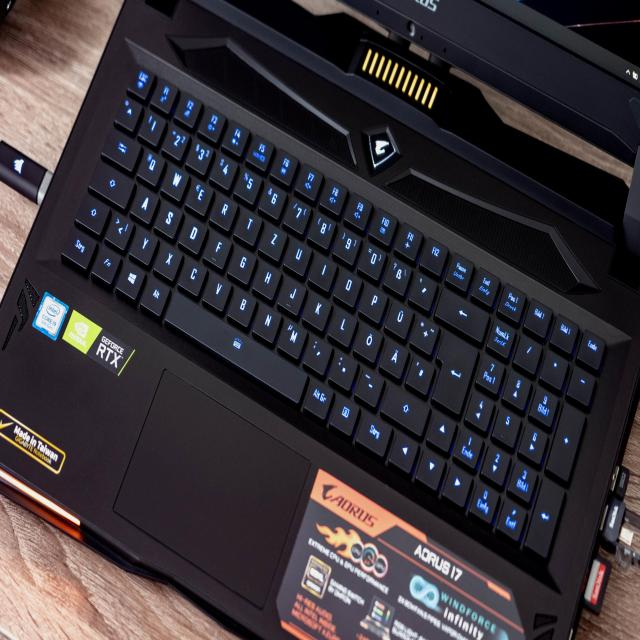0: (112, 81, 123, 95)
1: (36, 36, 46, 49)
2: (45, 40, 55, 53)
3: (53, 45, 63, 58)
4: (61, 50, 71, 63)
5: (70, 56, 80, 69)
6: (78, 61, 88, 74)
7: (86, 65, 97, 79)
8: (95, 71, 105, 85)
9: (104, 76, 114, 90)
a: (33, 61, 44, 76)
accent: (130, 91, 140, 106)
ae: (119, 116, 131, 130)
alt-left: (37, 93, 48, 108)
altgr-right: (94, 129, 105, 144)
b: (67, 98, 78, 112)
c: (50, 87, 61, 101)
caret: (28, 32, 38, 43)
comma: (93, 114, 104, 128)
d: (50, 73, 61, 87)
del: (139, 97, 158, 117)
e: (53, 60, 64, 73)
enter: (138, 111, 154, 142)
f: (59, 78, 69, 92)
g: (67, 83, 78, 97)
h: (76, 88, 86, 102)
hash: (129, 121, 140, 135)
i: (95, 86, 106, 100)
j: (84, 93, 95, 108)
k: (93, 99, 104, 113)
keyboard: (2, 12, 208, 202)
l: (102, 105, 113, 119)
less: (25, 71, 35, 85)
m: (85, 108, 96, 122)
minus: (111, 125, 122, 139)
n: (76, 103, 87, 117)
o: (104, 91, 115, 105)
oe: (111, 110, 122, 124)
p: (113, 96, 124, 110)
plus: (131, 107, 142, 121)
point: (102, 119, 113, 133)
q: (36, 49, 46, 63)
r: (61, 65, 71, 78)
s: (42, 67, 52, 81)
shift-left: (15, 65, 27, 80)
shift-lock: (20, 54, 36, 70)
shift-right: (120, 130, 138, 149)
space: (45, 99, 96, 140)
ss: (121, 87, 132, 101)
strg-left: (10, 77, 23, 94)
strg-right: (111, 140, 125, 157)
t: (69, 70, 80, 83)
tab: (24, 43, 38, 57)
u: (86, 80, 97, 94)
ue: (122, 102, 133, 116)
v: (59, 93, 70, 107)
w: (44, 54, 54, 68)
x: (42, 82, 53, 95)
y: (33, 76, 44, 90)
z: (78, 75, 89, 88)
